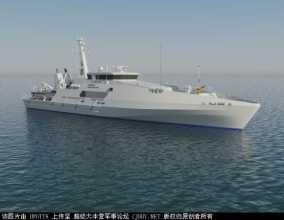warship: (18, 46, 262, 127)
